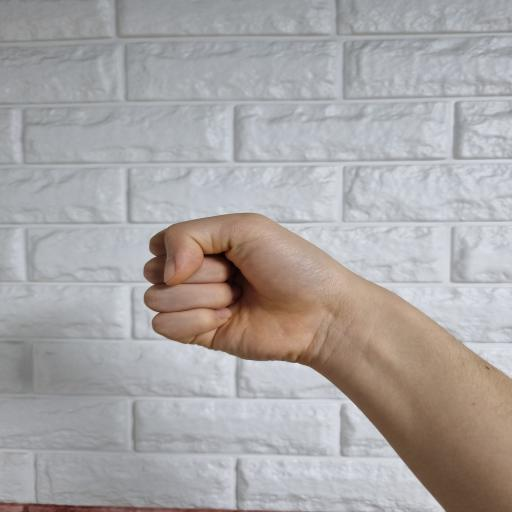Rock: (144, 212, 357, 362)
